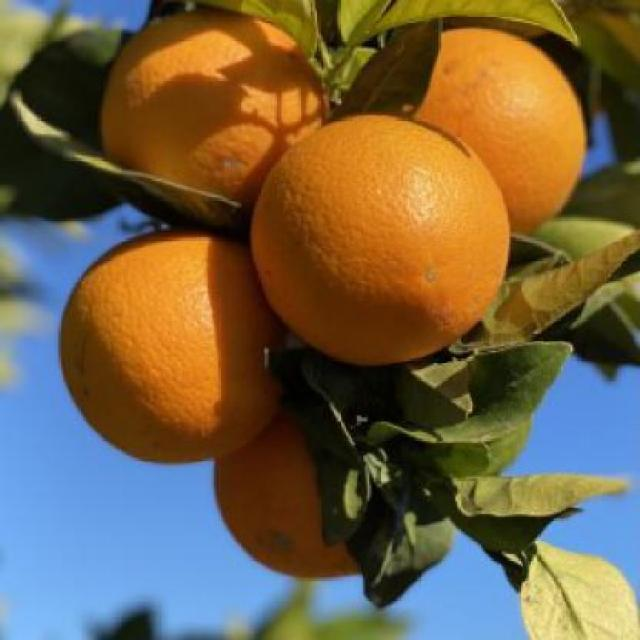Jeruk Sudah Matang: (256, 114, 510, 366), (343, 23, 594, 252), (61, 233, 292, 470), (102, 6, 332, 229), (208, 383, 409, 594)
